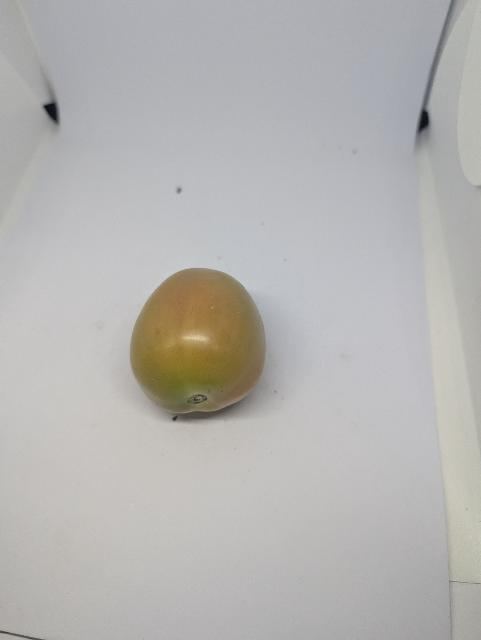breaker: (130, 268, 266, 413)
